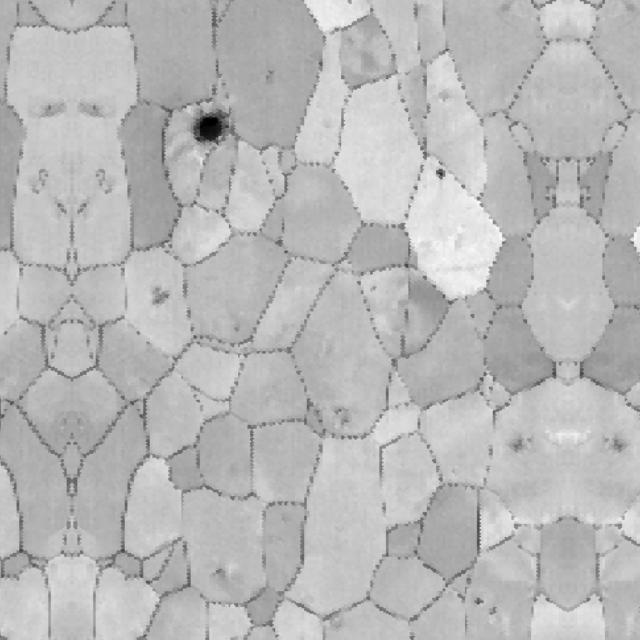good_void: (182, 112, 236, 152), (205, 563, 243, 589), (507, 428, 537, 459), (601, 428, 631, 459), (92, 166, 117, 200), (28, 166, 53, 200), (332, 402, 355, 431), (79, 96, 108, 119), (38, 96, 67, 119), (146, 285, 172, 310), (274, 215, 290, 249), (51, 194, 72, 218), (74, 194, 94, 218), (430, 169, 455, 184), (434, 87, 453, 106), (262, 67, 279, 86), (483, 602, 502, 618), (276, 511, 294, 527), (229, 322, 245, 334), (471, 596, 486, 608), (366, 283, 380, 294), (347, 0, 355, 7)
